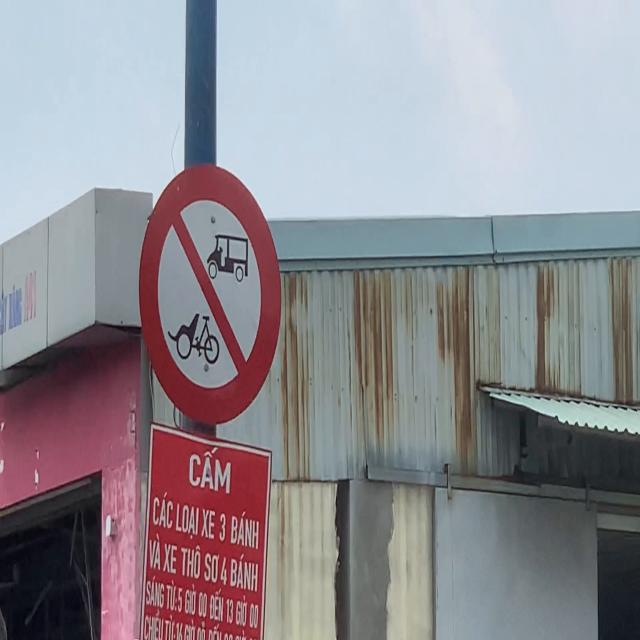Cam con lai: (138, 161, 284, 427)
